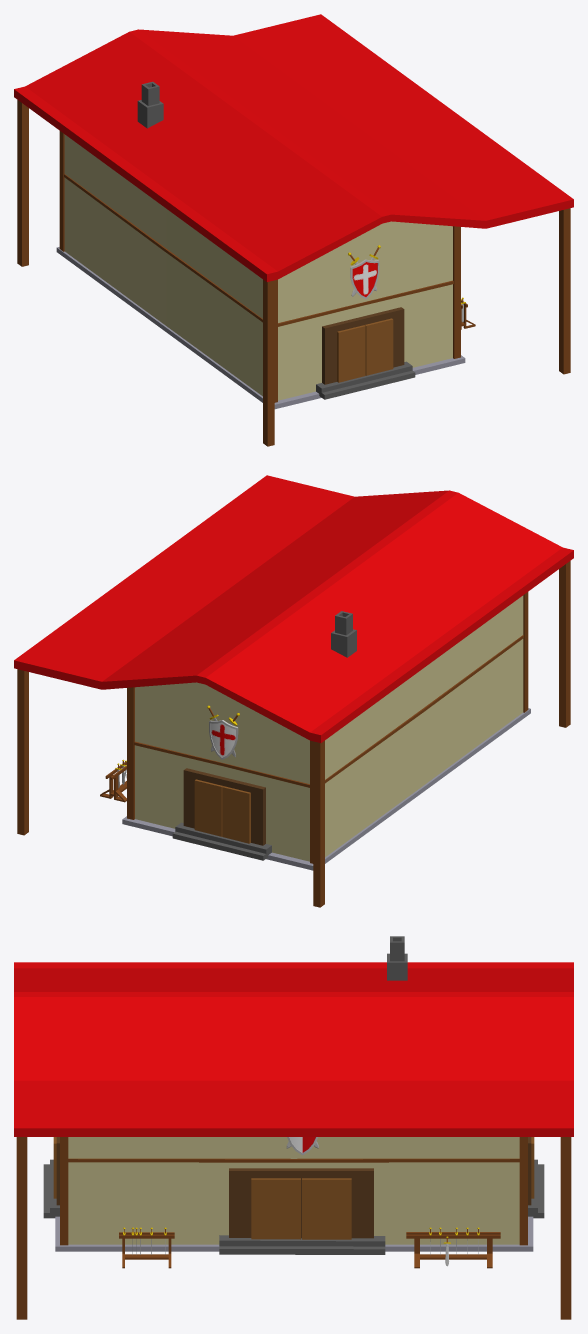
The model's file is barracks (1).fbx.
The picture shows the model from 3 angles, top to bottom: view 1: azimuth 30°, elevation 25°; view 2: azimuth 150°, elevation 25°; view 3: azimuth 270°, elevation 25°; orthographic projection. The views are drawn at different scales.
Parts seen in each view (by area): view 1: roof, walls, door sides, ground.001, emblem.001, schoorsteen.001; view 2: roof, walls, door sides, ground.001, emblem.002, schoorsteen.001, weapon stand.2; view 3: roof, walls, door front, ground.001, door sides, weapon stand.2, schoorsteen.001, weapon stand.
Boxes of the visible parts, bbox=[...] form: roof: bbox=[14, 14, 573, 446]; walls: bbox=[59, 131, 460, 402]; door sides: bbox=[316, 307, 415, 399]; ground.001: bbox=[56, 247, 465, 409]; emblem.001: bbox=[348, 245, 380, 299]; schoorsteen.001: bbox=[137, 81, 163, 128]; roof: bbox=[14, 475, 573, 907]; walls: bbox=[127, 592, 528, 863]; door sides: bbox=[172, 768, 271, 860]; ground.001: bbox=[122, 708, 530, 870]; emblem.002: bbox=[207, 705, 239, 759]; schoorsteen.001: bbox=[331, 611, 356, 657]; weapon stand.2: bbox=[100, 761, 126, 802]; roof: bbox=[14, 962, 573, 1319]; walls: bbox=[60, 1137, 527, 1245]; door front: bbox=[219, 1168, 385, 1254]; ground.001: bbox=[55, 1216, 533, 1251]; door sides: bbox=[43, 1137, 544, 1218]; weapon stand.2: bbox=[406, 1232, 500, 1268]; schoorsteen.001: bbox=[387, 936, 407, 980]; weapon stand: bbox=[119, 1232, 174, 1268].
Size of the model in its own units: 15.42 by 10.66 by 22.
13 materials, 2 textured.
